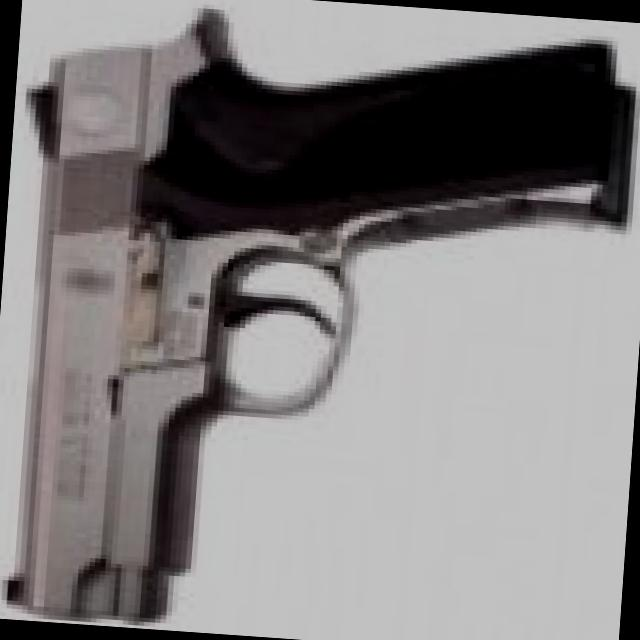handgun: (0, 10, 634, 639)
